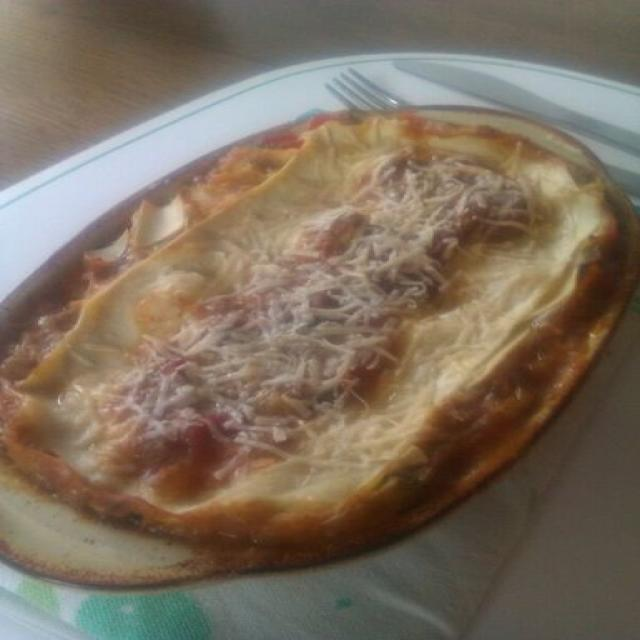Lasagna: (40, 138, 566, 530)
